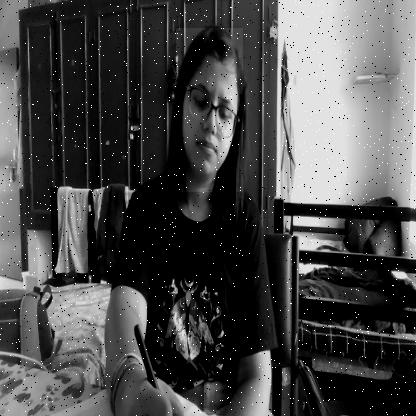Normal: (176, 28, 243, 192)
